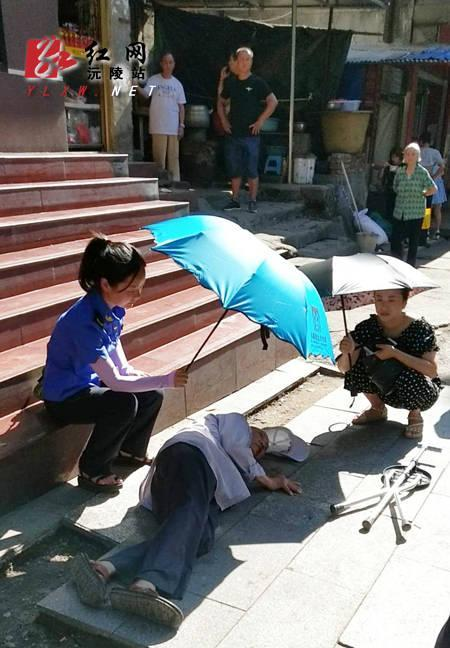bending: (29, 223, 193, 499), (322, 278, 450, 455)
down: (60, 398, 324, 637)
up: (208, 43, 288, 213), (136, 45, 213, 203), (375, 139, 442, 270)
